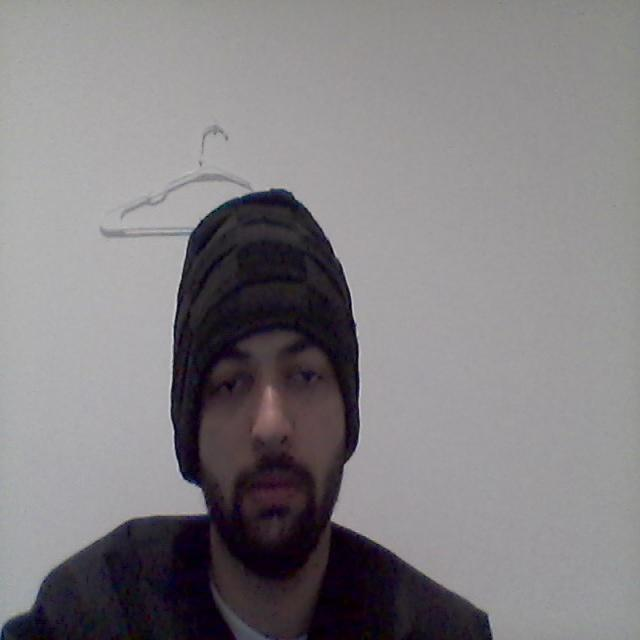cap: (150, 177, 371, 423)
